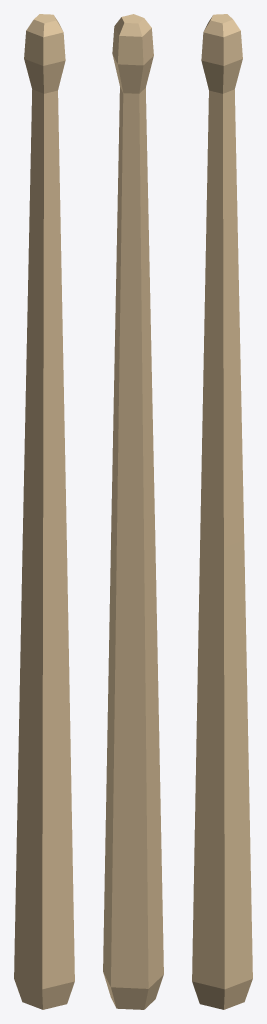
Rendered from Drum Stick.fbx.
3 renders of one model, left to right at view 1: azimuth 30°, elevation 25°; view 2: azimuth 210°, elevation 25°; view 3: azimuth 330°, elevation 25°, orthographic.
Visible parts, largest first — view 1: Drum Stick; view 2: Drum Stick; view 3: Drum Stick.
Part boxes in pixels (box(x1,y1,x2,y2)): Drum Stick: box(14, 14, 74, 1009); Drum Stick: box(103, 14, 163, 1009); Drum Stick: box(192, 14, 252, 1009).
Size of the model in its own units: 2.26 by 2.15 by 39.92.
